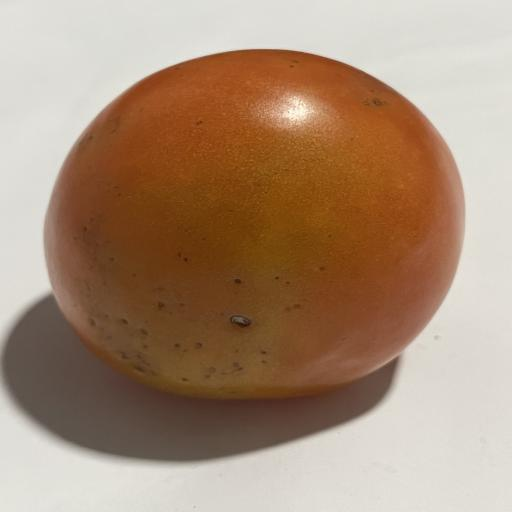ripe: (45, 50, 464, 399)
